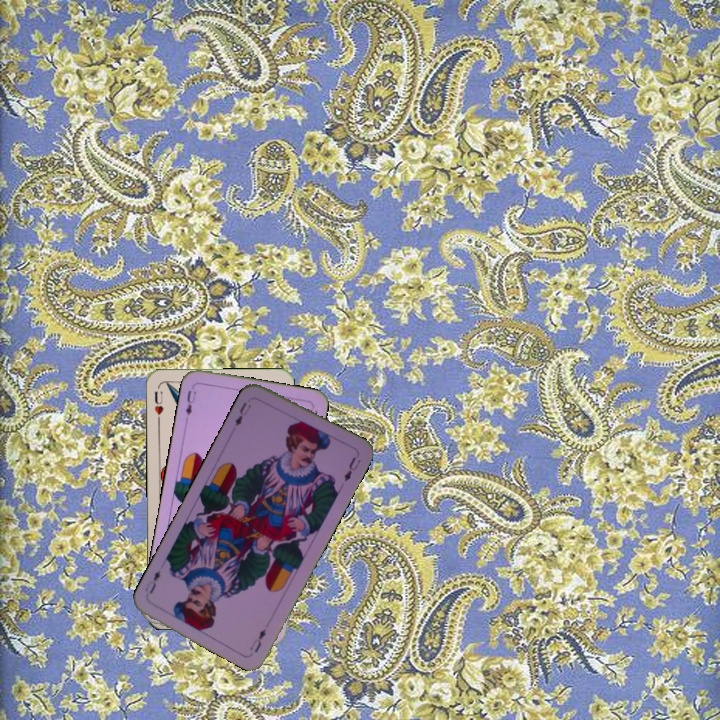EU: (231, 398, 254, 429), (246, 625, 269, 655), (181, 386, 199, 423)
HU: (150, 387, 166, 424)
